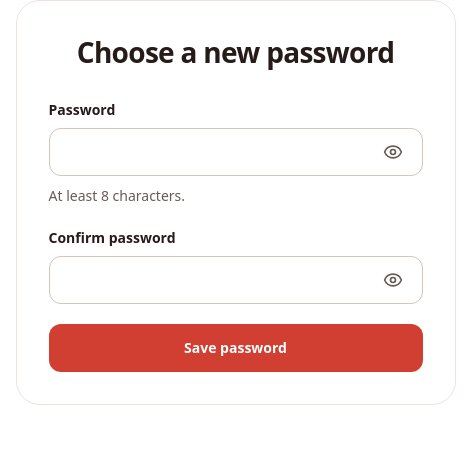
Scenario: stops retrying after 401
The width and height of the screenshot is (473, 454).
Type "a long password" into the password field labelled "Password".
click(236, 152); type("a long password")  # box 48,128 -> 422,176
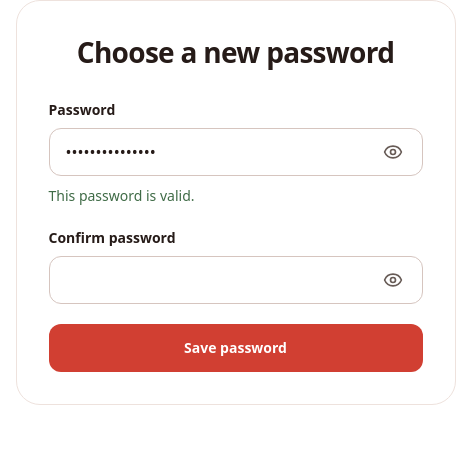
Type "a long password" into the password field labelled "Confirm password".
click(236, 280); type("a long password")  # box 48,256 -> 422,304
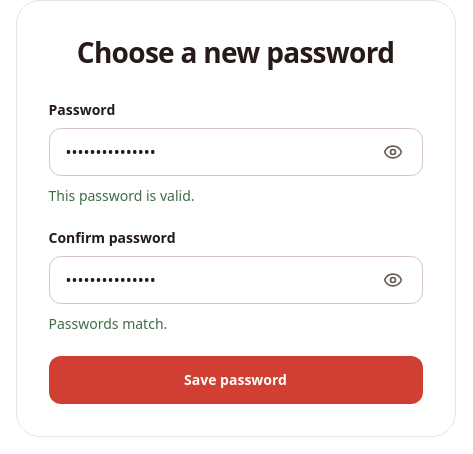
Click the button "Save password".
click(236, 380)  # box 48,356 -> 422,404
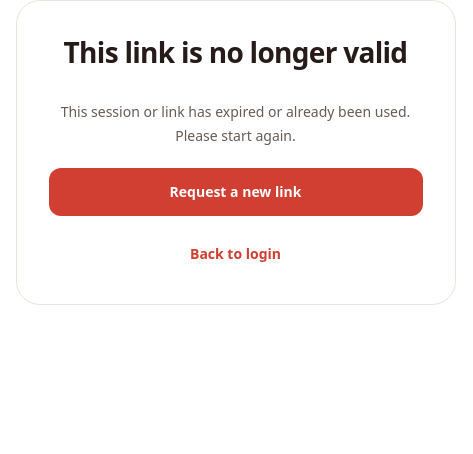
Result: the text "This session or link has expired or already been used. Please start again." is shown at 48,100 -> 422,148
Result: the heading "This link is no longer valid" is shown at 48,33 -> 422,72
Result: the heading "Choose a new password" is gone
